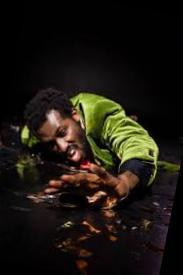Drunk: (40, 117, 86, 163)
